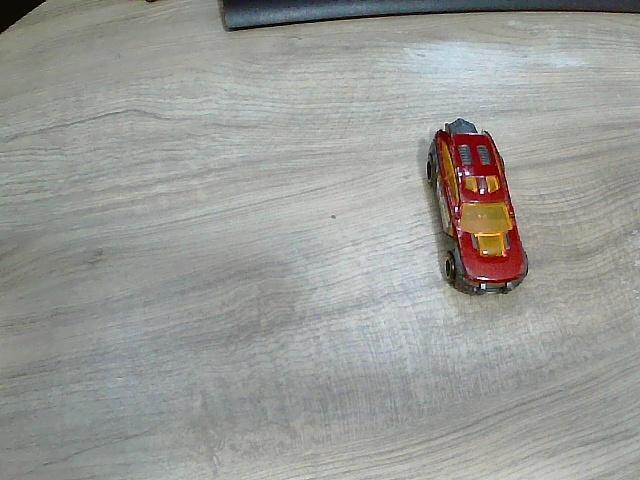Carro: (429, 119, 529, 293)
